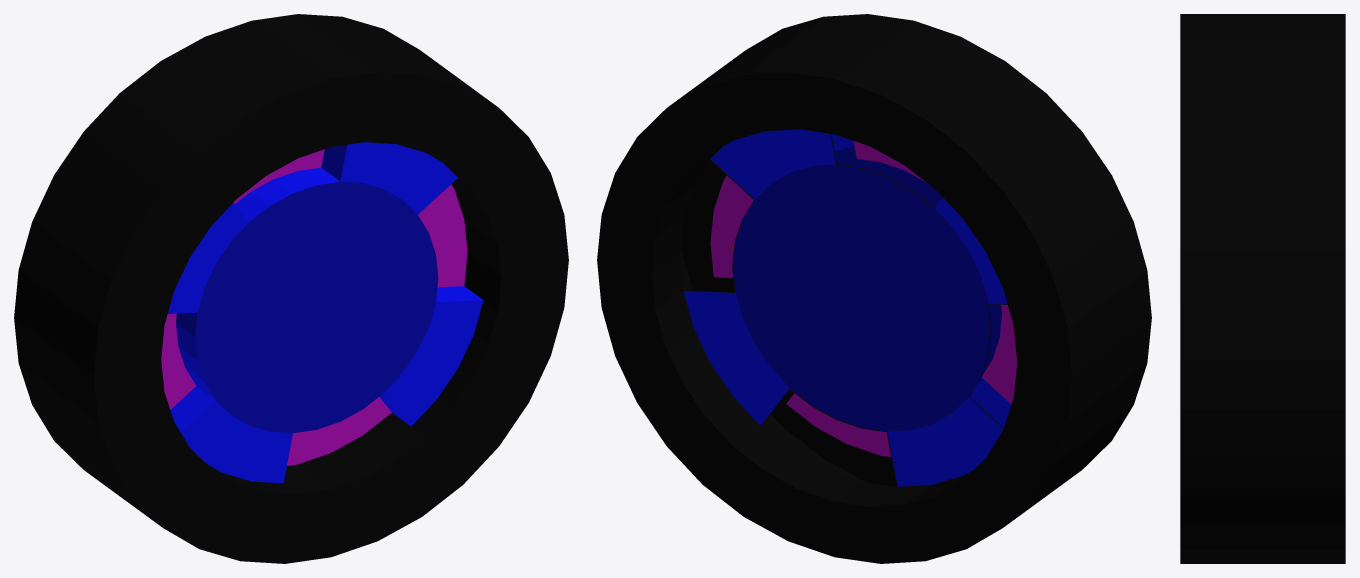
The model's file is PneuAzul.fbx.
3 renders of one model, left to right at view 1: azimuth 30°, elevation 25°; view 2: azimuth 150°, elevation 25°; view 3: azimuth 270°, elevation 25°, orthographic. The views are drawn at different scales.
Visible parts, largest first — view 1: Cylinder; view 2: Cylinder; view 3: Cylinder.
Boxes of the visible parts, x1=… form: Cylinder: x1=14, y1=14, x2=568, y2=563; Cylinder: x1=597, y1=14, x2=1151, y2=563; Cylinder: x1=1180, y1=14, x2=1345, y2=563.
Bounding box in the file's own units: 423 × 407 × 123.
